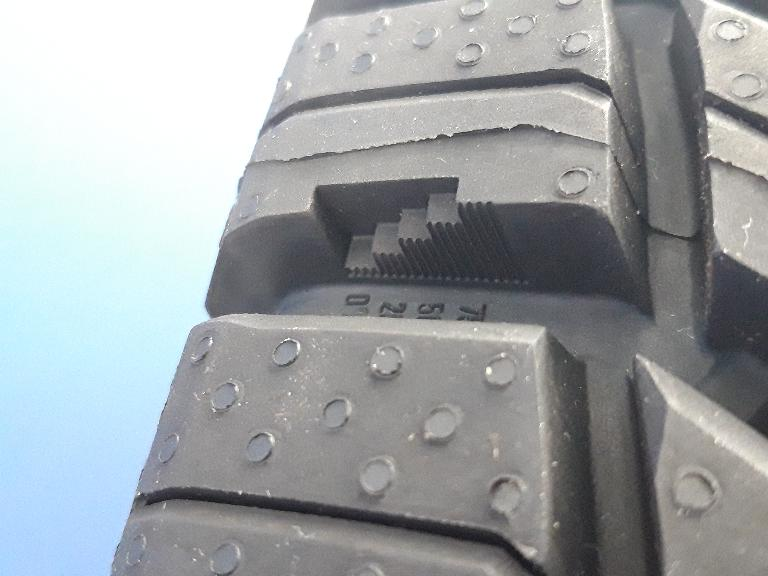temoin:100: (302, 171, 535, 297)
